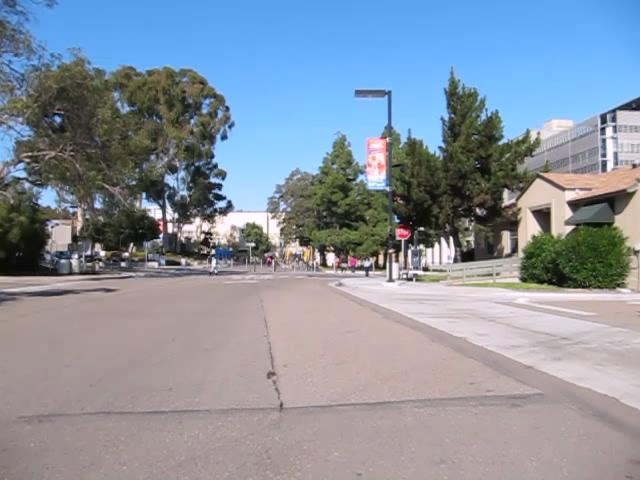stop: (395, 222, 412, 239)
